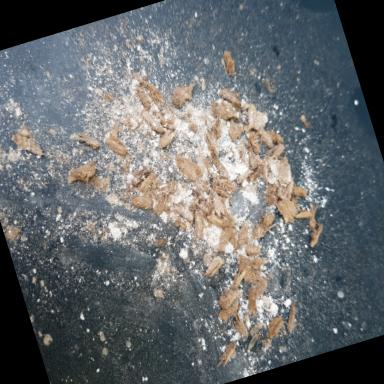pbw: (279, 297, 305, 333), (211, 170, 244, 196), (212, 340, 242, 368), (142, 76, 166, 110), (197, 184, 222, 214), (248, 218, 280, 241), (142, 106, 166, 136), (127, 164, 157, 188), (238, 249, 262, 278), (243, 158, 272, 182), (262, 179, 286, 207), (212, 226, 237, 252), (188, 208, 208, 240), (303, 202, 325, 231), (242, 100, 262, 130), (224, 114, 246, 141), (105, 134, 128, 159), (201, 255, 226, 278), (216, 299, 242, 321), (242, 287, 261, 317), (245, 128, 265, 156), (77, 128, 100, 152), (264, 314, 287, 338), (219, 85, 242, 109), (249, 274, 272, 298), (212, 153, 231, 182), (230, 310, 249, 339), (227, 269, 251, 291), (306, 224, 328, 247), (174, 200, 195, 224), (136, 172, 160, 192), (209, 113, 227, 139), (155, 128, 177, 148), (281, 177, 299, 201), (203, 156, 221, 180), (210, 190, 226, 216), (221, 50, 236, 76), (208, 212, 226, 231), (244, 148, 259, 170), (244, 332, 262, 350), (214, 184, 232, 202), (294, 208, 313, 222), (247, 322, 265, 334), (107, 126, 121, 141), (253, 254, 269, 267)
